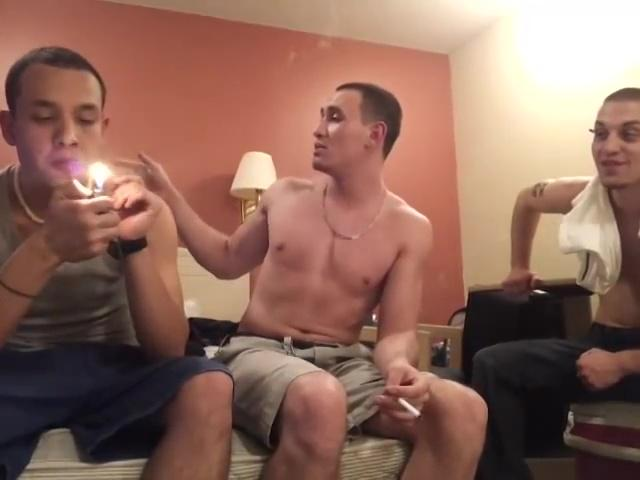cigarette: (398, 395, 426, 422)
